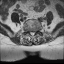CCS_normal: (31, 29, 33, 37)
LFS_severe_stenosis: (35, 28, 37, 34)
LLS_normal: (33, 30, 35, 36)
RFS_severe_stenosis: (27, 28, 29, 33)
RLS_normal: (29, 29, 31, 35)
